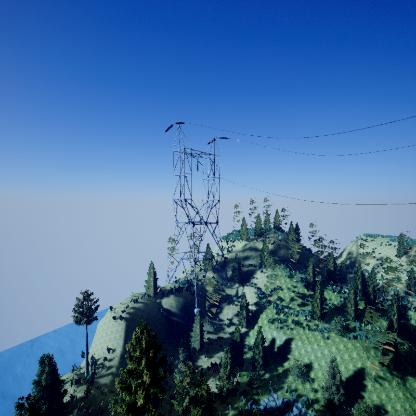tower: (163, 120, 232, 319)
